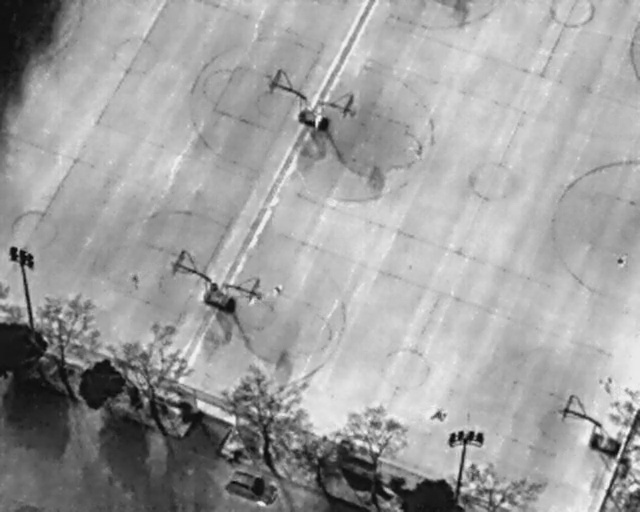Person: (270, 281, 284, 300), (618, 251, 630, 271)
